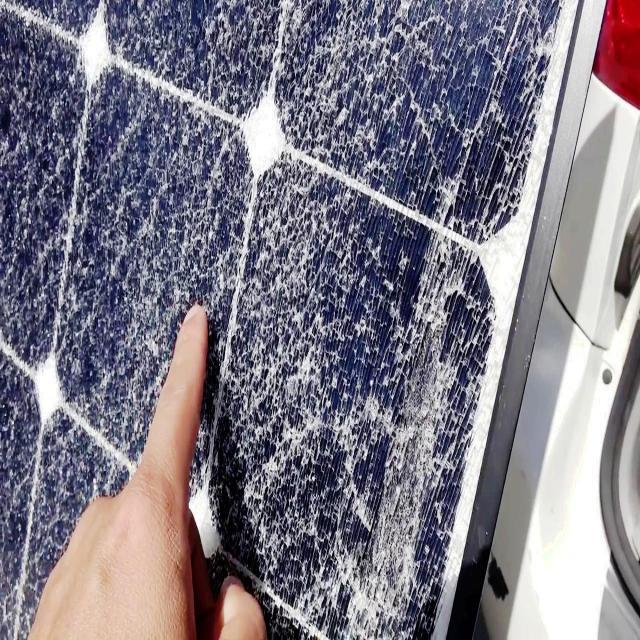faulty: (0, 2, 594, 640)
